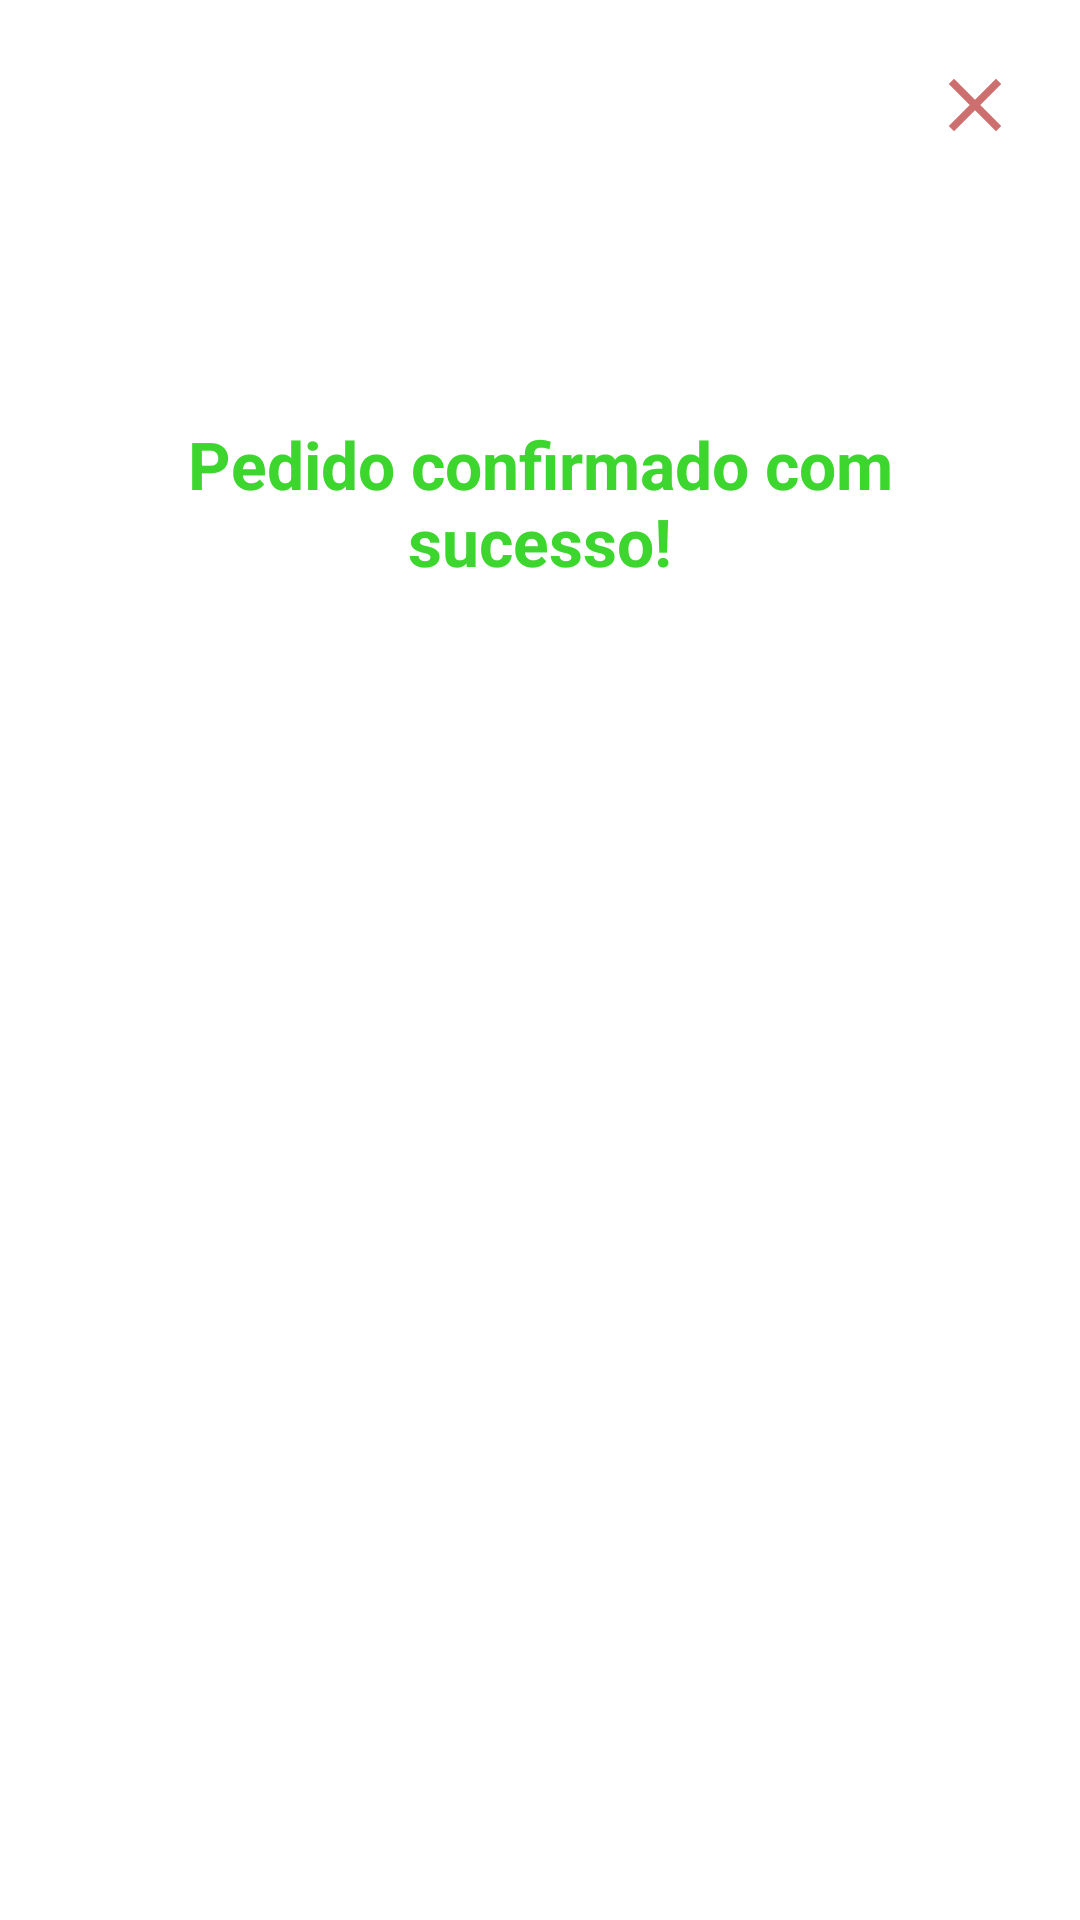

Locate icon controls on the screen. Image size 1080w x 1920h, boxes as (x1, y1, x2, y2).
close: (949, 79, 1001, 131)
